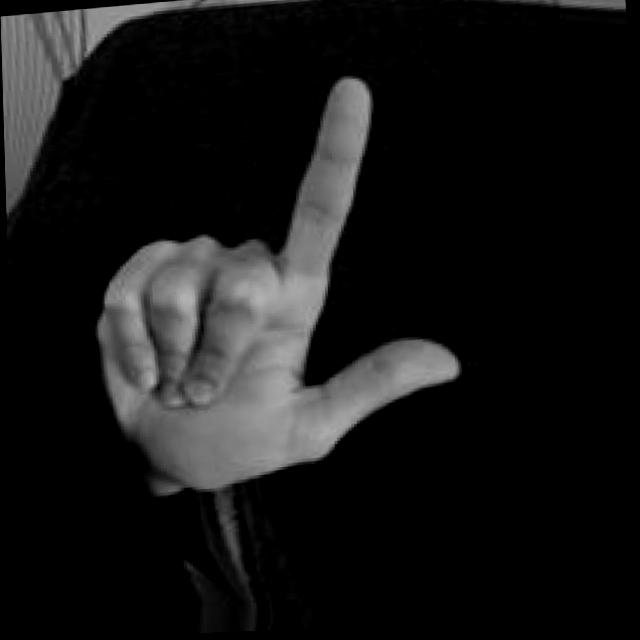L: (73, 56, 476, 513)
